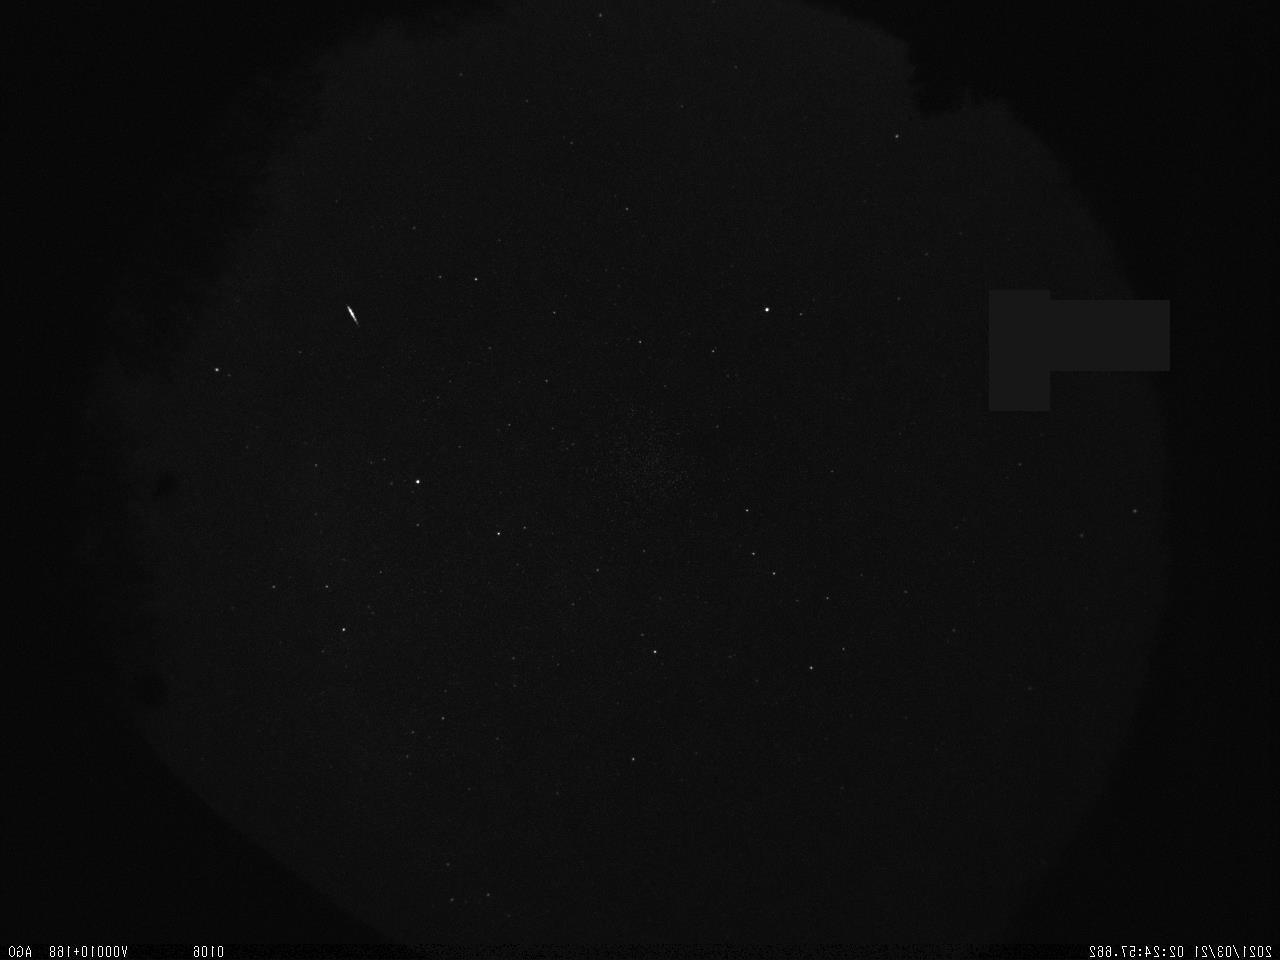meteor: (333, 287, 373, 340)
